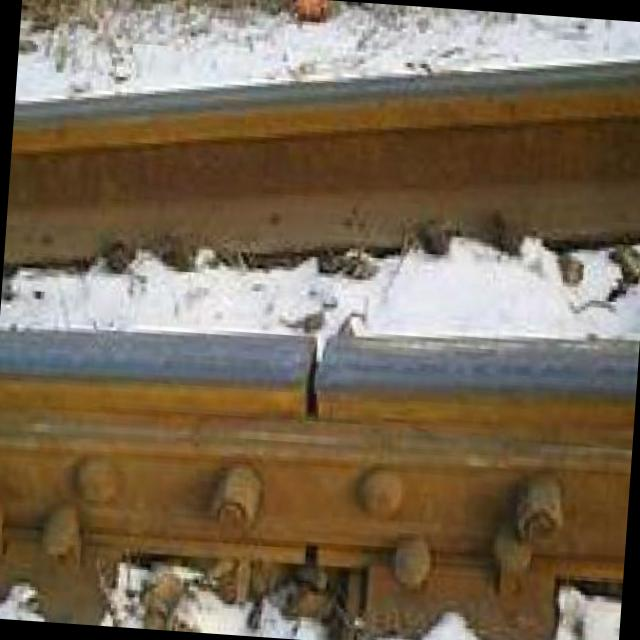defective: (193, 272, 434, 514)
